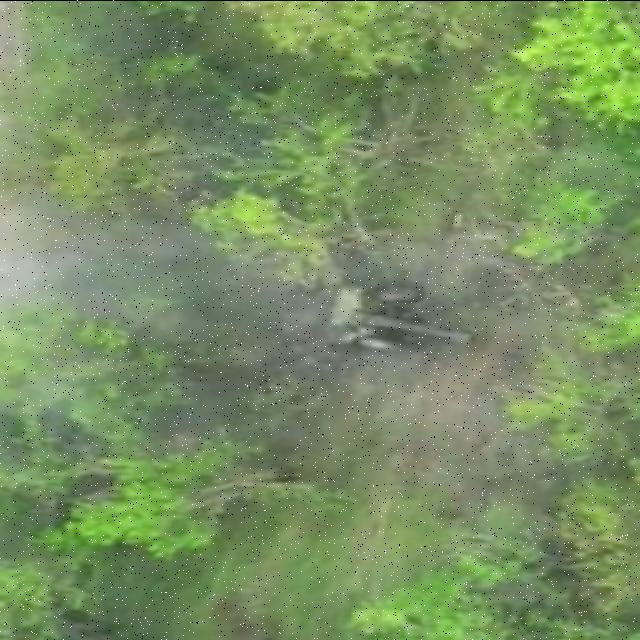ART: (316, 284, 476, 358)
